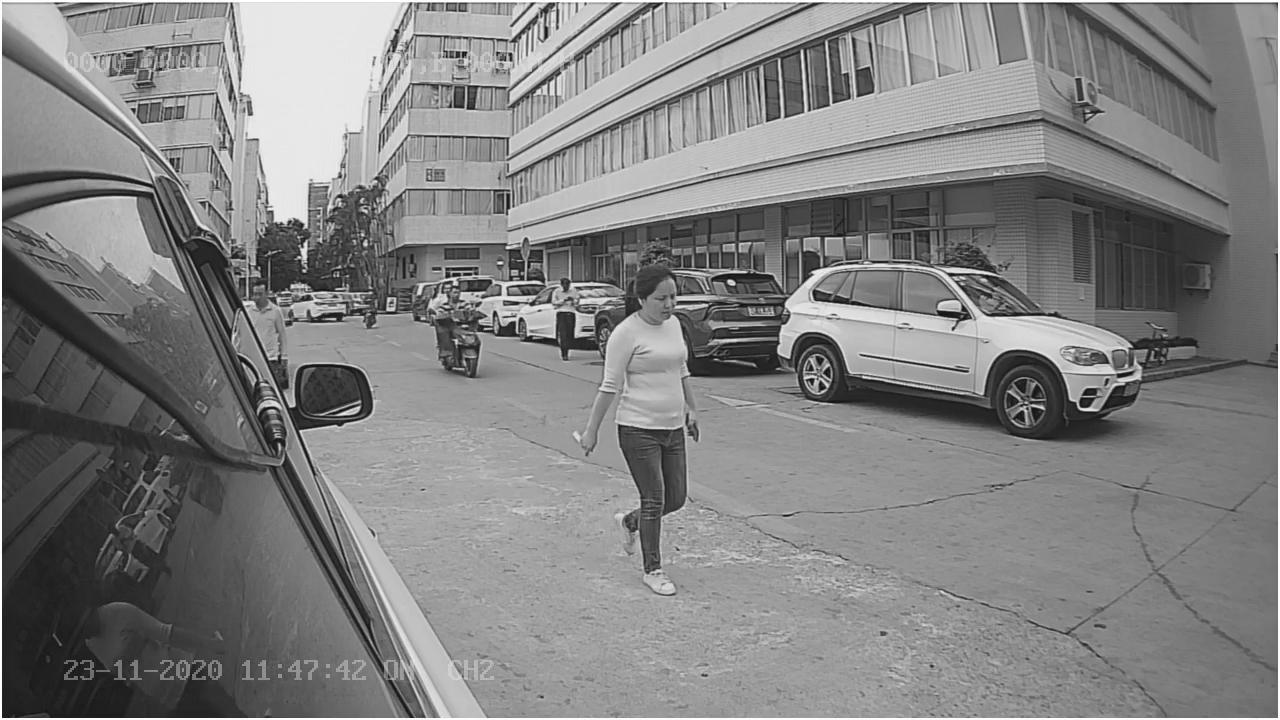person: (564, 256, 706, 602)
